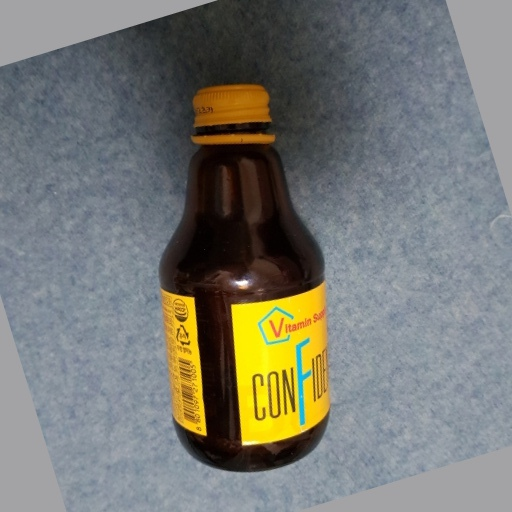Glass_3: (149, 81, 332, 473)
